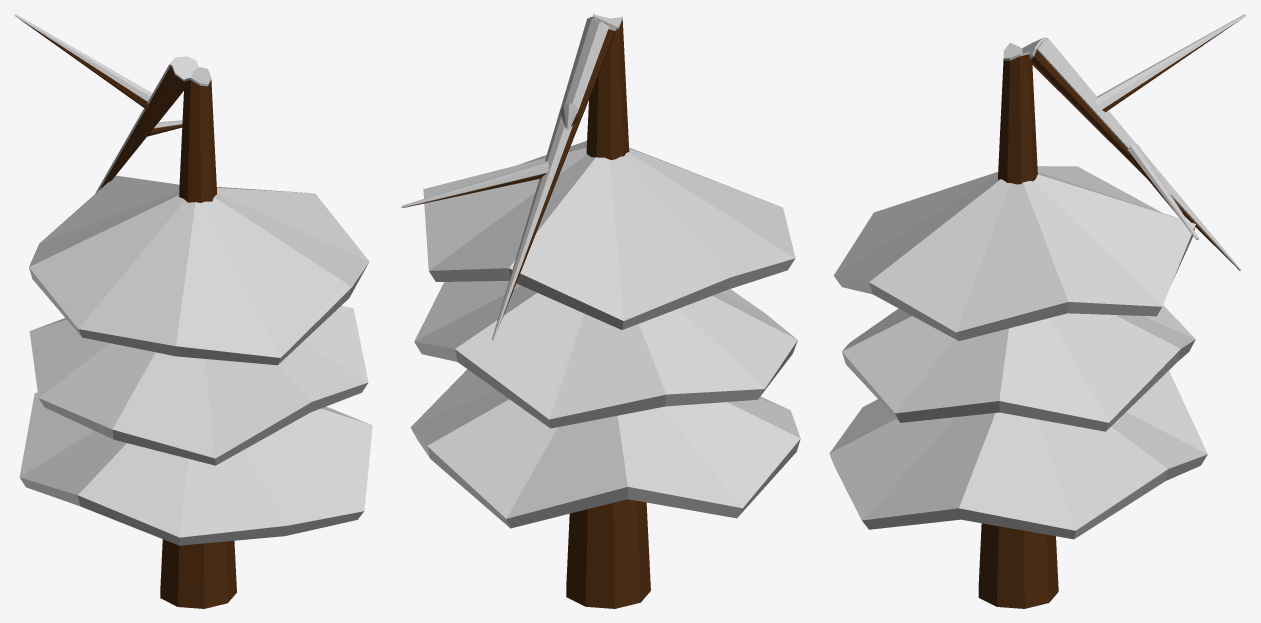
File: Tree_21.fbx
The picture shows the model from 3 angles, left to right: view 1: azimuth 30°, elevation 25°; view 2: azimuth 150°, elevation 25°; view 3: azimuth 270°, elevation 25°; orthographic projection. The views are drawn at different scales.
Parts seen in each view (by area): view 1: Tree_21; view 2: Tree_21; view 3: Tree_21.
Part boxes in pixels (x1=…): Tree_21: x1=14, y1=14, x2=372, y2=608; Tree_21: x1=401, y1=14, x2=800, y2=608; Tree_21: x1=829, y1=14, x2=1246, y2=608.
Size of the model in its own units: 176 by 295 by 202.
